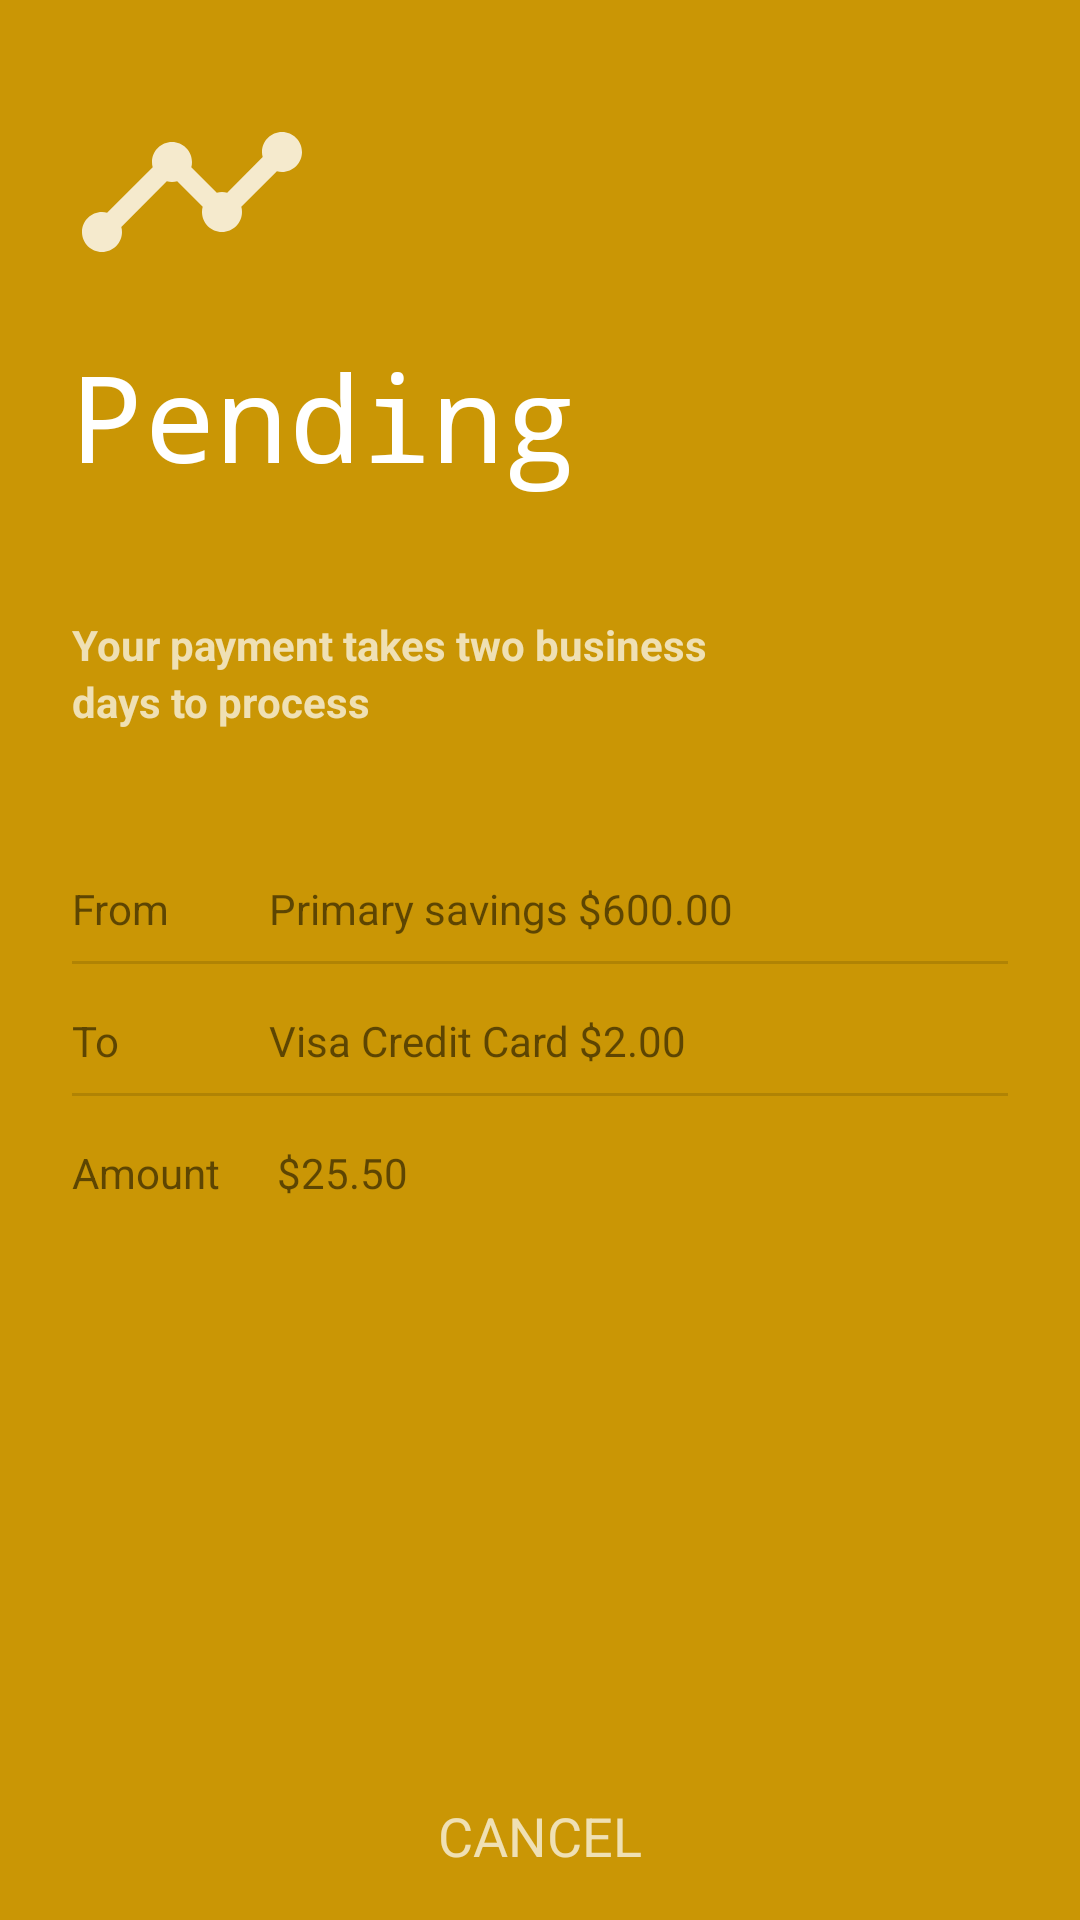

Icon click points for this 1080 x 1920 phone screenshot, format (x=x, y=y):
timeline: (x=192, y=192)
